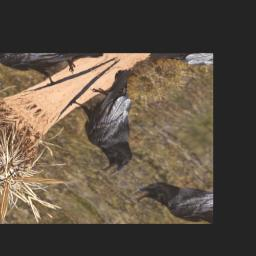Crow: (43, 65, 195, 177)
